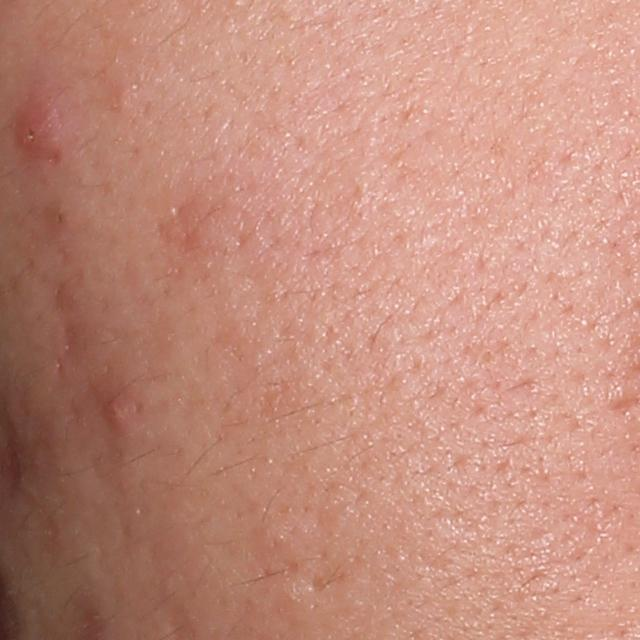comedo: (40, 200, 74, 231)
papule: (13, 94, 69, 158), (99, 394, 133, 427)
